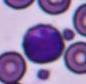L: (22, 23, 64, 63)
